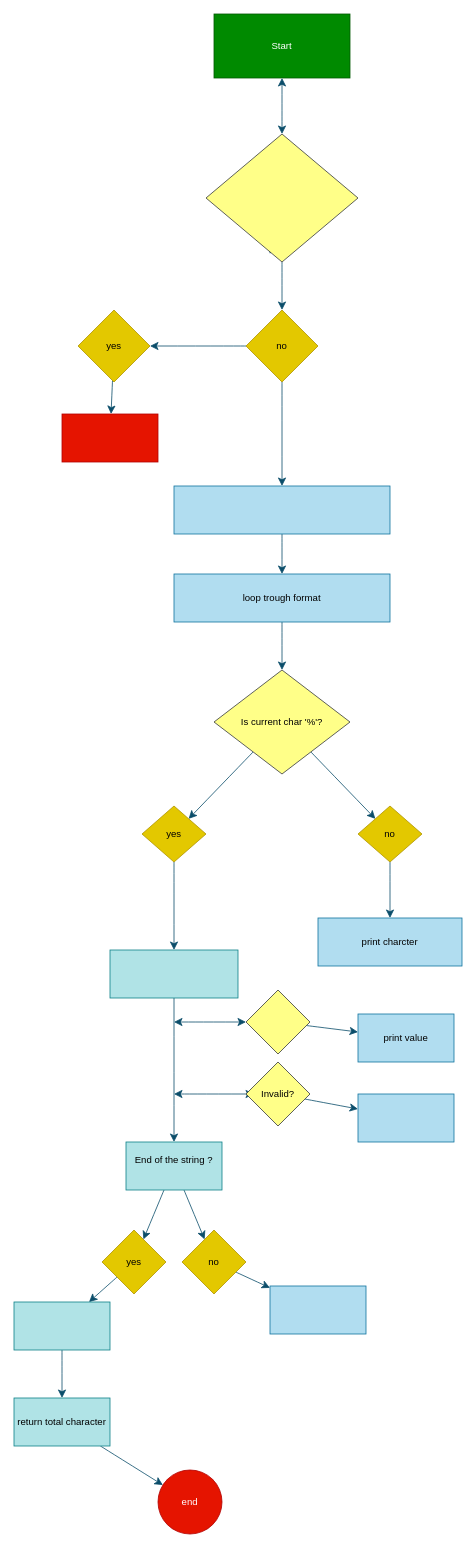
Some shapes in this 476 by 1548 pixel diagram are drawn without their labels. Each missing label, with the box of its shape:
call handler - specifier: (109, 949, 238, 998)
Close va_list: (13, 1301, 110, 1350)
If format NULL or empty?: (205, 133, 358, 262)
initialize valist index count: (173, 485, 390, 534)
print '%x': (357, 1093, 454, 1142)
repeat process: (269, 1285, 366, 1334)
return -1: (61, 413, 158, 462)
valid?: (245, 989, 310, 1054)
